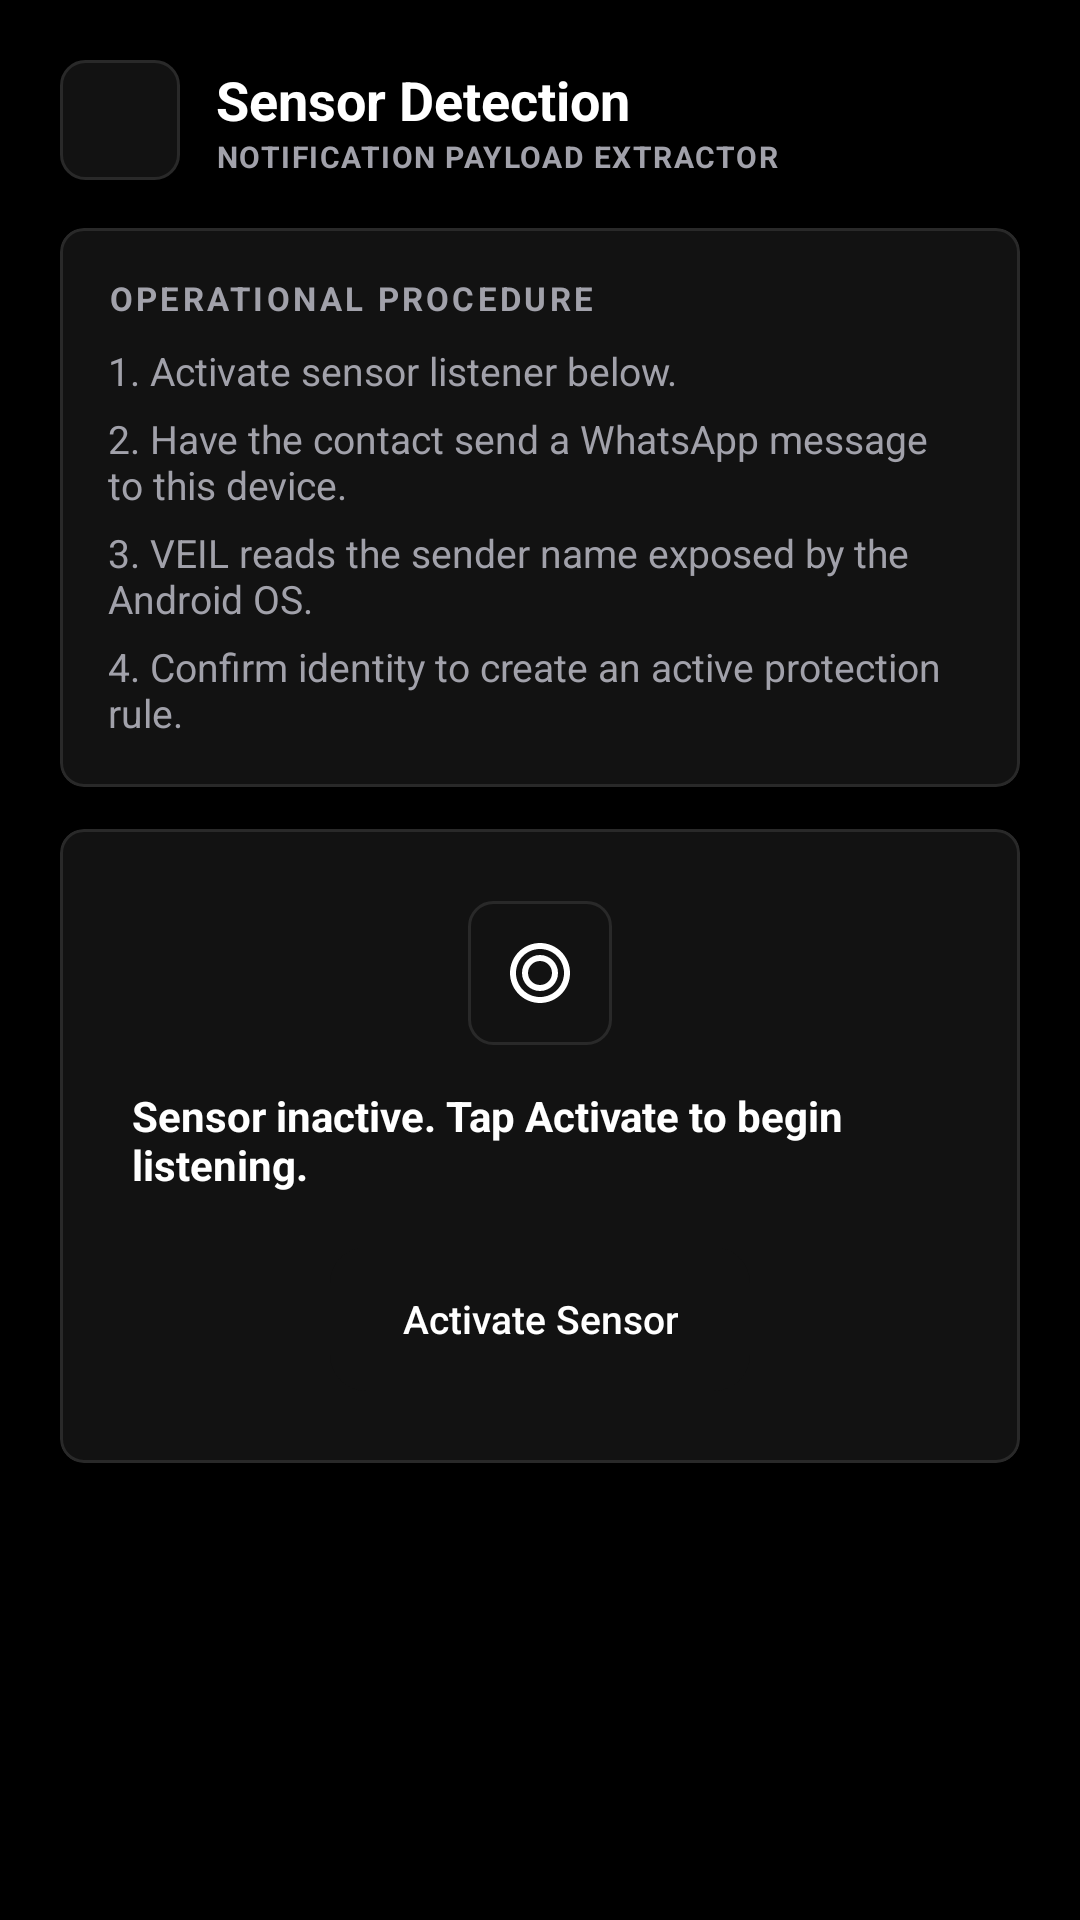

Screen size 1080w x 1920h. Icon name, then its center in pixels as [x,y]:
radar learn: [540,973]
